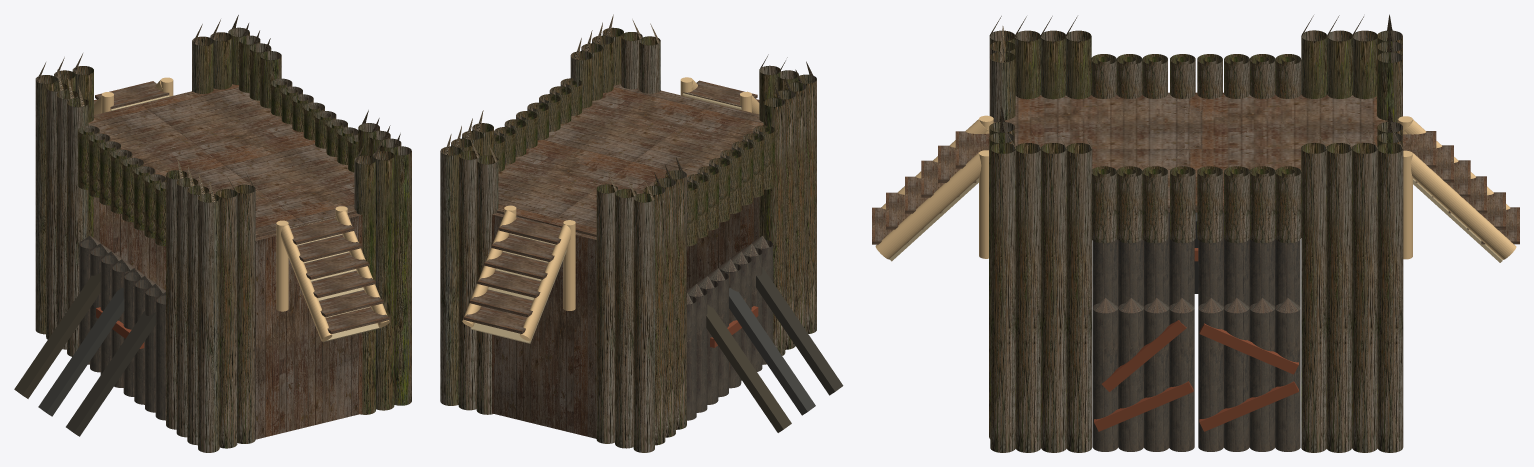
Rendered from PalisadeGate.fbx.
3 renders of one model, left to right at view 1: azimuth 30°, elevation 25°; view 2: azimuth 150°, elevation 25°; view 3: azimuth 270°, elevation 25°, orthographic. The views are drawn at different scales.
Visible parts, largest first — view 1: PalisadeFloor.010, PalisadeFloor.005, PalisadeFloor.003, PointStick.032, PointStick.037, PointStick.036, PointStick.011, PointStick.023, PalisadeFloor.008, PointStick.024, PointStick.022, PointStick.034 (+52 smaller); view 2: PalisadeFloor.009, PalisadeFloor.005, PalisadeFloor.003, PointStick.031, PointStick.030, PointStick.029, PointStick.002, PalisadeFloor.007, PointStick.018, PointStick.035, PointStick.019, PalisadeFloor.010 (+52 smaller); view 3: PalisadeFloor.008, PalisadeFloor.007, PointStick.002, PointStick.014, PointStick.013, PointStick.007, PointStick.012, PointStick.010, PointStick.009, PointStick.011, PointStick.042, GateDoorLeft (+57 smaller).
Part boxes in pixels (<box>): PalisadeFloor.010: <box>255,213,362,439</box>; PalisadeFloor.005: <box>218,139,356,224</box>; PalisadeFloor.003: <box>141,84,306,160</box>; PointStick.032: <box>198,180,219,452</box>; PointStick.037: <box>234,172,255,443</box>; PointStick.036: <box>215,177,237,448</box>; PointStick.011: <box>390,133,411,405</box>; PointStick.023: <box>372,138,394,410</box>; PalisadeFloor.008: <box>88,104,217,177</box>; PointStick.024: <box>67,85,88,356</box>; PointStick.022: <box>354,143,375,414</box>; PointStick.034: <box>176,165,198,437</box>; PalisadeFloor.009: <box>492,213,596,438</box>; PalisadeFloor.005: <box>537,84,711,166</box>; PalisadeFloor.003: <box>496,145,625,224</box>; PointStick.031: <box>633,181,654,452</box>; PointStick.030: <box>615,176,636,448</box>; PointStick.029: <box>596,172,617,443</box>; PointStick.002: <box>440,134,461,405</box>; PalisadeFloor.007: <box>626,104,763,177</box>; PointStick.018: <box>458,138,480,410</box>; PointStick.035: <box>763,85,785,355</box>; PointStick.019: <box>476,142,498,414</box>; PalisadeFloor.010: <box>660,90,759,289</box>; PalisadeFloor.008: <box>1184,92,1387,148</box>; PalisadeFloor.007: <box>1004,92,1206,148</box>; PointStick.002: <box>1377,130,1403,452</box>; PointStick.014: <box>1066,130,1092,452</box>; PointStick.013: <box>1041,129,1066,452</box>; PointStick.007: <box>1352,129,1377,452</box>; PointStick.012: <box>1015,130,1041,452</box>; PointStick.010: <box>1301,130,1326,452</box>; PointStick.009: <box>1326,130,1352,452</box>; PointStick.011: <box>990,128,1015,452</box>; PointStick.042: <box>1092,297,1118,451</box>; GateDoorLeft: <box>1169,298,1194,451</box>.
Size of the model in its own units: 596 by 539 by 969.
